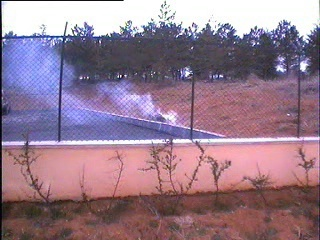smoke: (94, 76, 175, 123)
